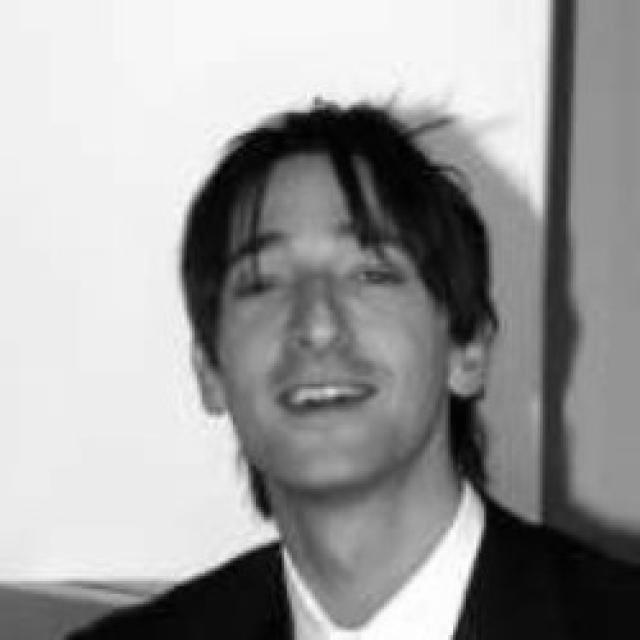real: (214, 158, 450, 492), (237, 254, 414, 311)
